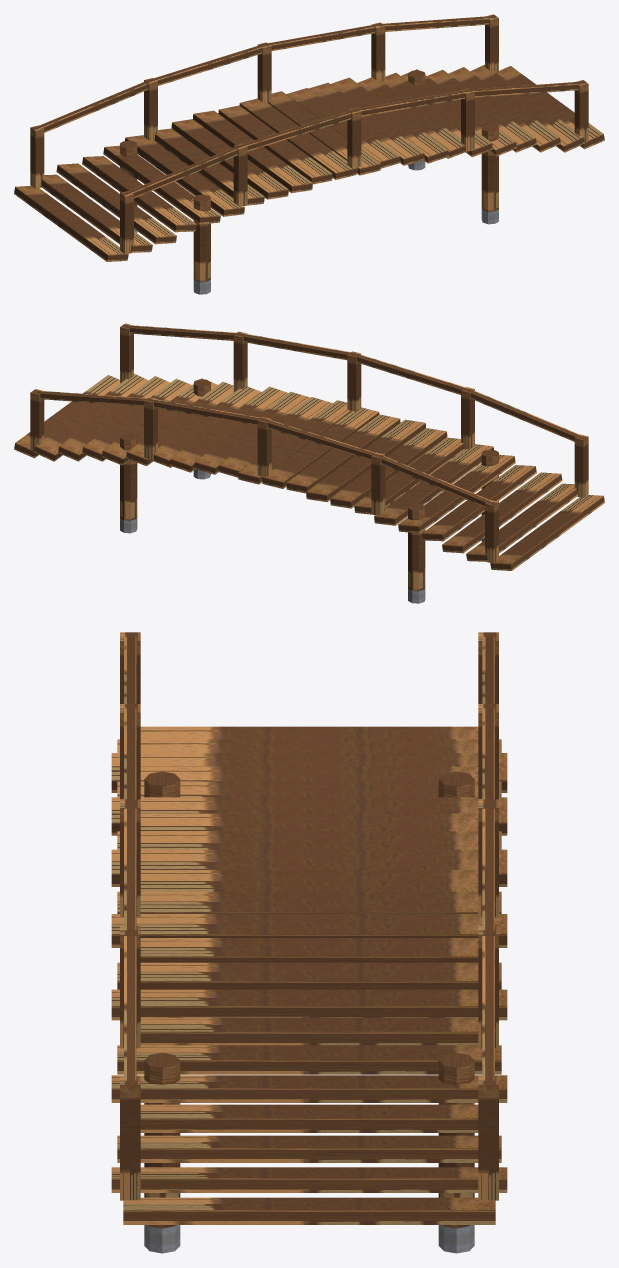
The model's file is Bruecke.gltf.
3 renders of one model, top to bottom at view 1: azimuth 30°, elevation 25°; view 2: azimuth 150°, elevation 25°; view 3: azimuth 270°, elevation 25°, orthographic. The views are drawn at different scales.
Visible parts, largest first — view 1: Bruecke; view 2: Bruecke; view 3: Bruecke.
Boxes of the visible parts, left/top/right/bottom form: Bruecke: left=14, top=14, right=604, bottom=294; Bruecke: left=14, top=323, right=604, bottom=603; Bruecke: left=111, top=632, right=507, bottom=1253.
Bounding box in the file's own units: 8.98 × 2.6 × 3.09.
Materials: 1 (1 with a texture image).
